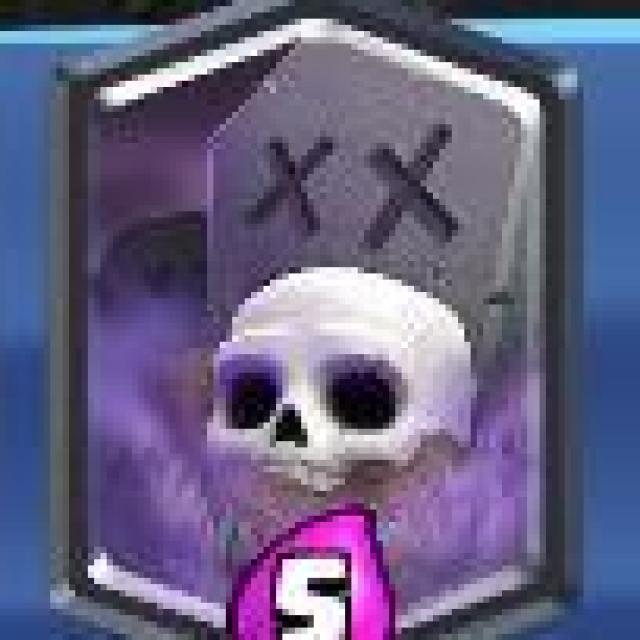Graveyard: (50, 0, 579, 640)
